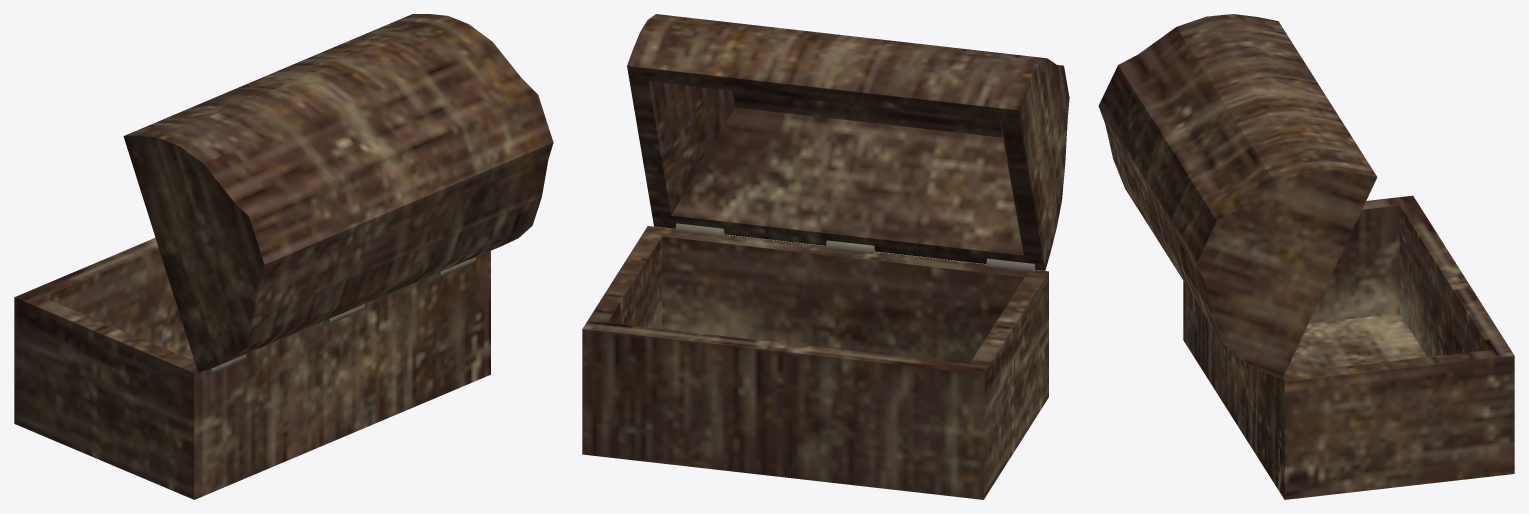
File: Kufereczek.fbx
The picture shows the model from 3 angles, left to right: view 1: azimuth 30°, elevation 25°; view 2: azimuth 150°, elevation 25°; view 3: azimuth 270°, elevation 25°; orthographic projection. The views are drawn at different scales.
Parts seen in each view (by area): view 1: Box062, Box061; view 2: Box061, Box062; view 3: Box062, Box061.
Boxes of the visible parts, left/top/right/bottom form: Box062: left=123, top=14, right=553, bottom=372; Box061: left=14, top=237, right=490, bottom=499; Box061: left=582, top=226, right=1048, bottom=499; Box062: left=627, top=14, right=1069, bottom=270; Box062: left=1098, top=14, right=1377, bottom=379; Box061: left=1183, top=195, right=1514, bottom=499.
Size of the model in its own units: 0.2409 by 0.1875 by 0.2192.
